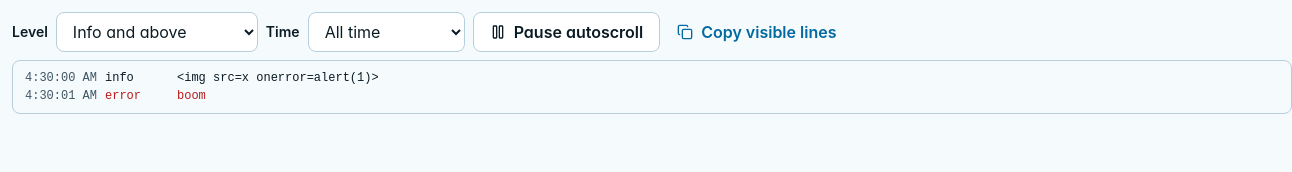
Test: safe rendering › LogViewer escapes markup and filters by level
Expected: the text "<img src=x onerror=alert(1)>" is shown, x1=177 y1=71 x2=379 y2=85
Select "Errors only" in the dropdown labelled "Level": point(157, 32) x1=56 y1=12 x2=258 y2=52
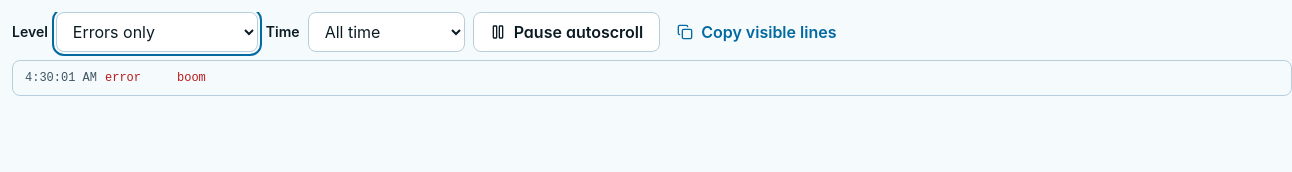
Expected: the text "boom" is shown, x1=177 y1=71 x2=206 y2=85
Result: the text "<img src=x onerror=alert(1)>" is gone
